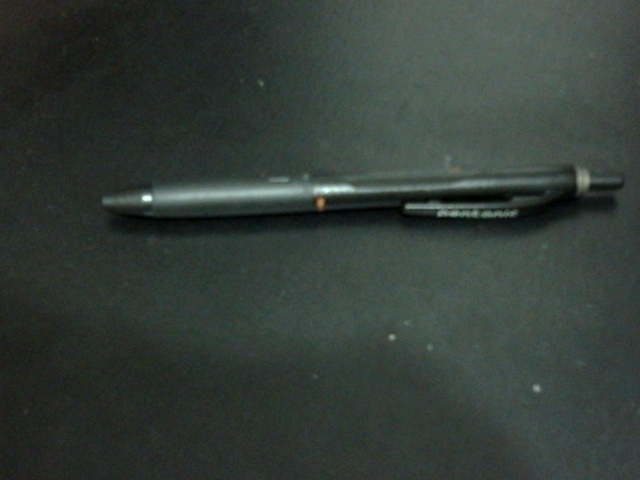pen: (89, 117, 631, 265)
